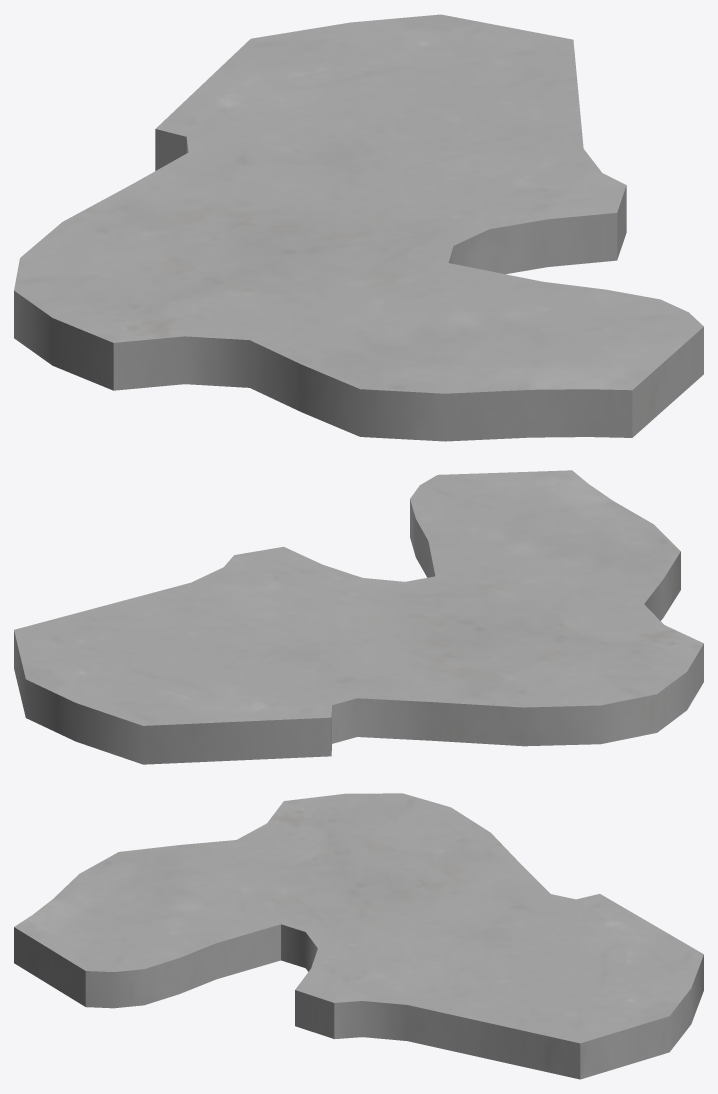
The model's file is SM_Ground_Debris_S6.fbx.
3 views of the same model, one above another, from view 1: azimuth 30°, elevation 25°; view 2: azimuth 150°, elevation 25°; view 3: azimuth 270°, elevation 25° (orthographic). The views are drawn at different scales.
Parts seen in each view (by area): view 1: SM_Ground_Debris_S6_LOD0; view 2: SM_Ground_Debris_S6_LOD0; view 3: SM_Ground_Debris_S6_LOD0.
Boxes of the visible parts, x1,y1,x2,y2 form: SM_Ground_Debris_S6_LOD0: (14, 14, 703, 441); SM_Ground_Debris_S6_LOD0: (14, 470, 703, 764); SM_Ground_Debris_S6_LOD0: (14, 793, 703, 1079).
Bounding box in the file's own units: 70.71 × 82.47 × 4.77.
1 material, 1 textured.
